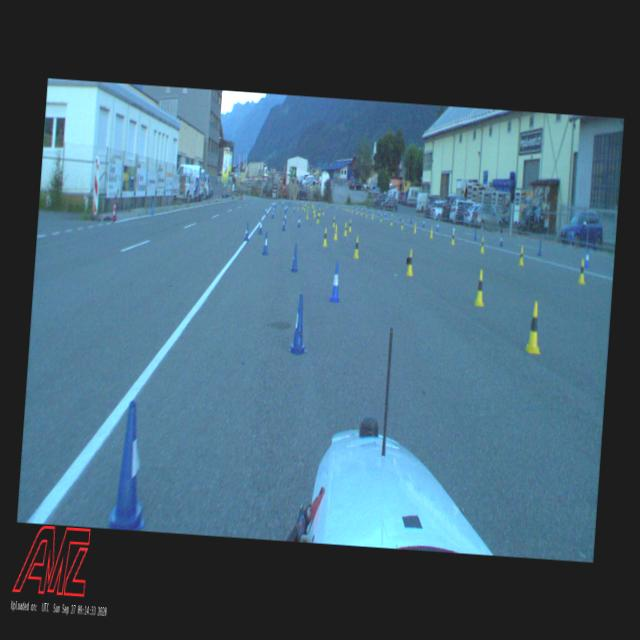blue_cone: (108, 400, 152, 530), (288, 293, 310, 355), (328, 262, 342, 302), (290, 244, 300, 272), (262, 232, 269, 254), (584, 248, 590, 269), (243, 222, 249, 240), (258, 218, 264, 235), (537, 238, 542, 256), (281, 216, 285, 230), (499, 233, 503, 247), (150, 200, 154, 214), (297, 215, 301, 228), (282, 210, 286, 223), (270, 208, 274, 218), (436, 220, 439, 232), (422, 216, 424, 226), (384, 210, 386, 218)
yellow_cone: (524, 300, 544, 352), (474, 268, 486, 306), (405, 250, 414, 276), (577, 258, 586, 283), (352, 236, 360, 259), (322, 226, 328, 248), (518, 245, 524, 265), (479, 236, 485, 253), (332, 223, 338, 240), (428, 226, 434, 238), (343, 222, 348, 236), (348, 218, 352, 232), (450, 230, 454, 244), (412, 222, 417, 233), (400, 218, 404, 230), (332, 215, 336, 226), (389, 215, 393, 225), (371, 211, 374, 220), (316, 212, 318, 224), (306, 209, 308, 220), (380, 214, 382, 222), (365, 210, 367, 217)
